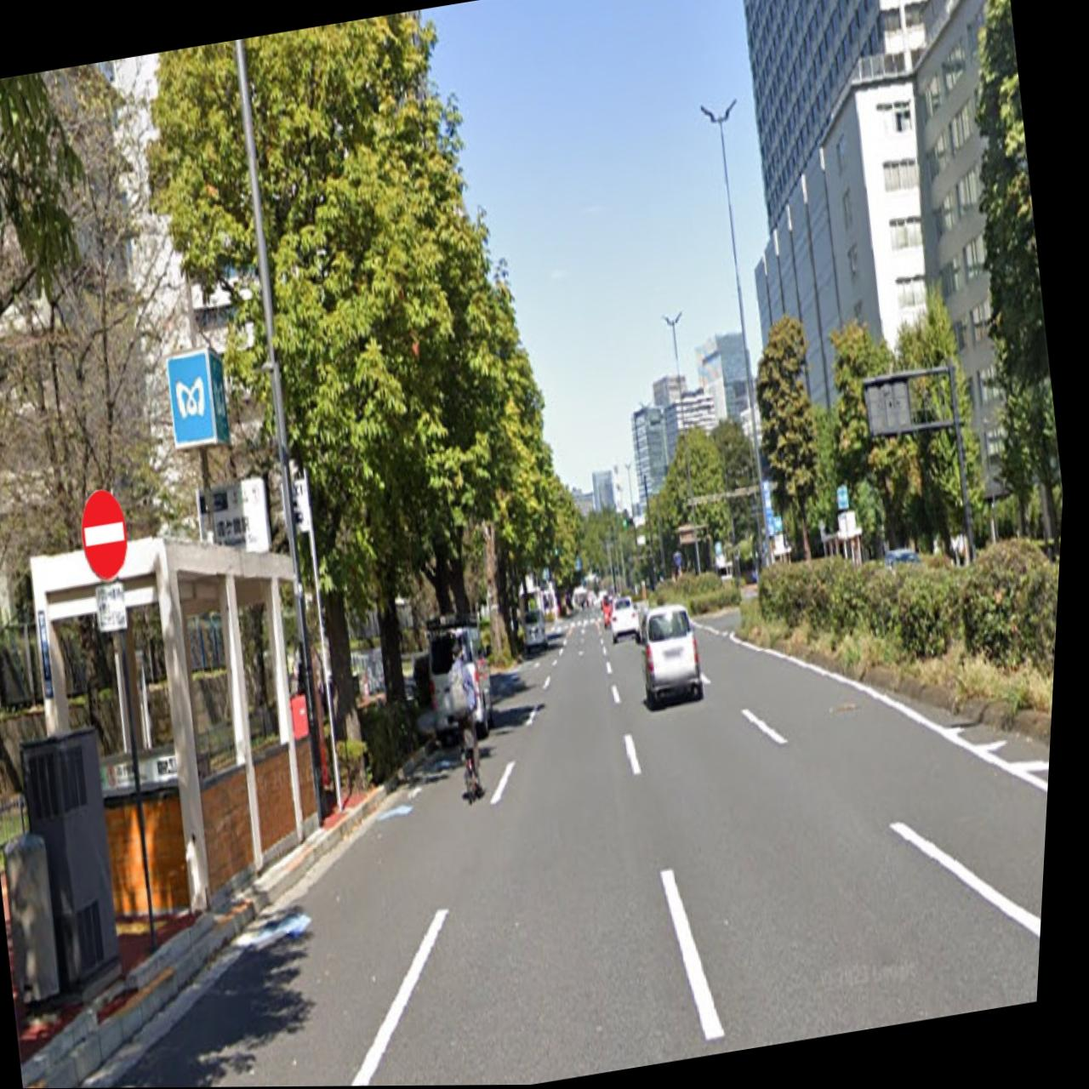barrier: (69, 484, 140, 584)
